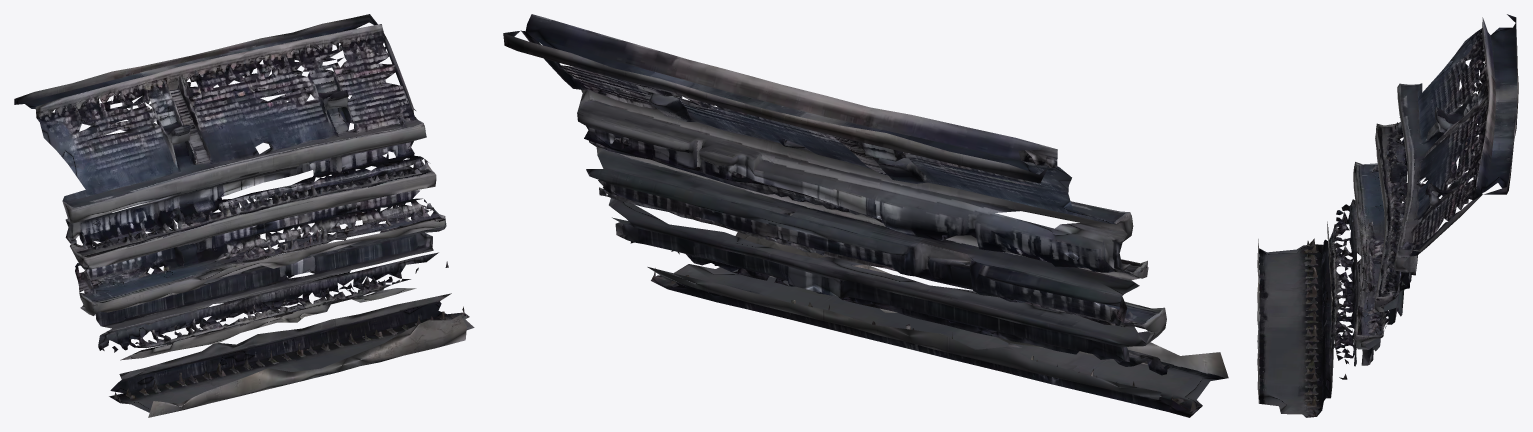
Rendered from tiers-front-s1.lo.glb.
The picture shows the model from 3 angles, left to right: view 1: azimuth 30°, elevation 25°; view 2: azimuth 150°, elevation 25°; view 3: azimuth 270°, elevation 25°; orthographic projection. The views are drawn at different scales.
Parts seen in each view (by area): view 1: geometry_0; view 2: geometry_0; view 3: geometry_0.
Part boxes in pixels (bbox=[...]): geometry_0: bbox=[14, 14, 474, 417]; geometry_0: bbox=[503, 14, 1228, 417]; geometry_0: bbox=[1257, 14, 1518, 417].
Size of the model in its own units: 1 by 0.6276 by 0.6371.
Materials: 1 (1 with a texture image).
